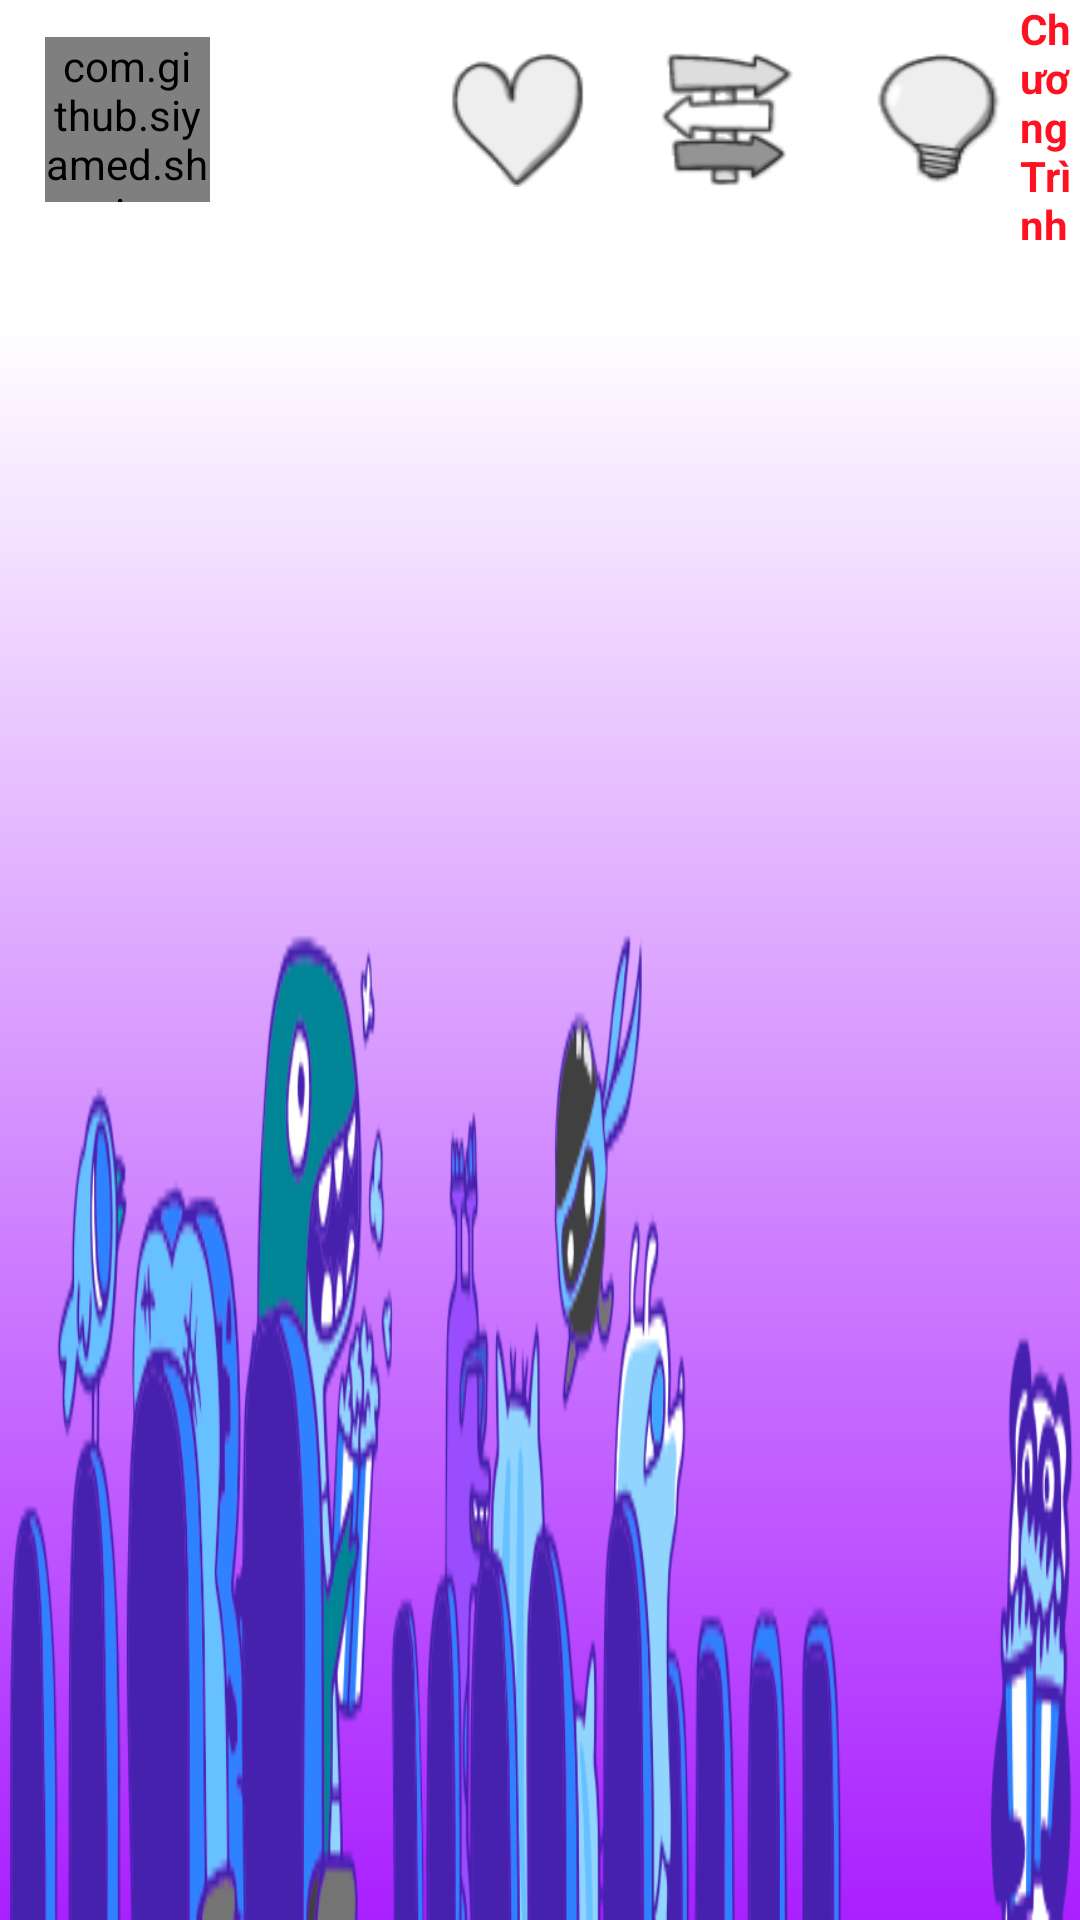

Icons on this 1080*1920 Android screen, each with its box as region(x1, y1, x2, y2):
hexplore: region(662, 54, 792, 185)
hlearning: region(878, 54, 999, 182)
hrecommended: region(452, 54, 583, 187)
